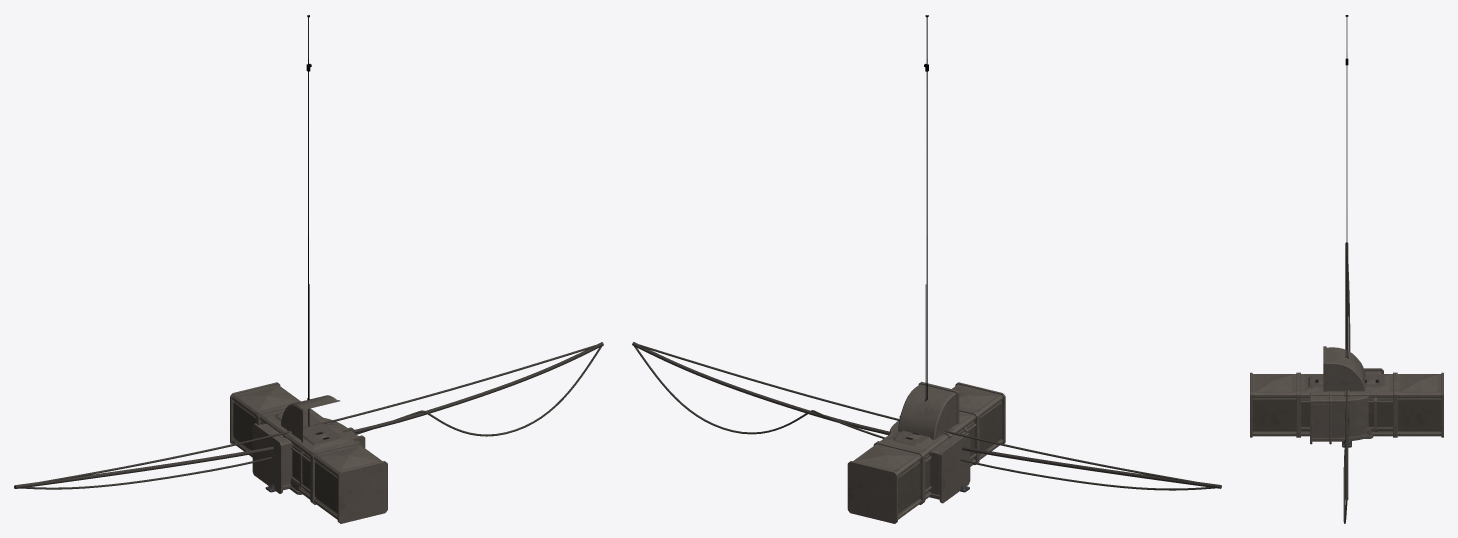
File: decke.glb
3 views of the same model, side by side, from view 1: azimuth 30°, elevation 25°; view 2: azimuth 150°, elevation 25°; view 3: azimuth 270°, elevation 25° (orthographic). The views are drawn at different scales.
Visible parts, largest first — view 1: prop_decke_addon_hvac_straight_01x04x01_a, prop_decke_cable_hanging_h, prop_decke_addon_hvac_corner_01x02x01_a, prop_decke_addon_hvac_straight_01x02x01_a, prop_decke_addon_hvac_vent_a; view 2: prop_decke_addon_hvac_straight_01x04x01_a, prop_decke_cable_hanging_h, prop_decke_addon_hvac_vent_a, prop_decke_addon_hvac_corner_01x02x01_a, prop_decke_addon_hvac_straight_01x02x01_a, prop_decke_cable_sign_hanging_b; view 3: prop_decke_addon_hvac_straight_01x04x01_a, prop_decke_addon_hvac_corner_01x02x01_a, prop_decke_addon_hvac_straight_01x02x01_a, prop_decke_addon_hvac_vent_a, prop_decke_cable_hanging_h, prop_decke_cable_sign_hanging_b.
Boxes of the visible parts, left/top/right/bottom form: prop_decke_addon_hvac_straight_01x04x01_a: left=230, top=382, right=387, bottom=523; prop_decke_cable_hanging_h: left=14, top=342, right=603, bottom=489; prop_decke_addon_hvac_corner_01x02x01_a: left=252, top=417, right=365, bottom=493; prop_decke_addon_hvac_straight_01x02x01_a: left=257, top=408, right=355, bottom=502; prop_decke_addon_hvac_vent_a: left=281, top=395, right=340, bottom=494; prop_decke_addon_hvac_straight_01x04x01_a: left=847, top=382, right=1005, bottom=523; prop_decke_cable_hanging_h: left=632, top=342, right=1221, bottom=490; prop_decke_addon_hvac_vent_a: left=898, top=381, right=959, bottom=439; prop_decke_addon_hvac_corner_01x02x01_a: left=889, top=416, right=970, bottom=503; prop_decke_addon_hvac_straight_01x02x01_a: left=880, top=411, right=978, bottom=501; prop_decke_cable_sign_hanging_b: left=924, top=15, right=928, bottom=399; prop_decke_addon_hvac_straight_01x04x01_a: left=1250, top=372, right=1443, bottom=437; prop_decke_addon_hvac_corner_01x02x01_a: left=1310, top=368, right=1383, bottom=444; prop_decke_addon_hvac_straight_01x02x01_a: left=1299, top=374, right=1394, bottom=437; prop_decke_addon_hvac_vent_a: left=1323, top=346, right=1373, bottom=438; prop_decke_cable_hanging_h: left=1343, top=242, right=1350, bottom=523; prop_decke_cable_sign_hanging_b: left=1345, top=15, right=1348, bottom=357.
Size of the model in its own units: 12.5 by 9.46 by 4.
Materials: 22 (18 with a texture image).
